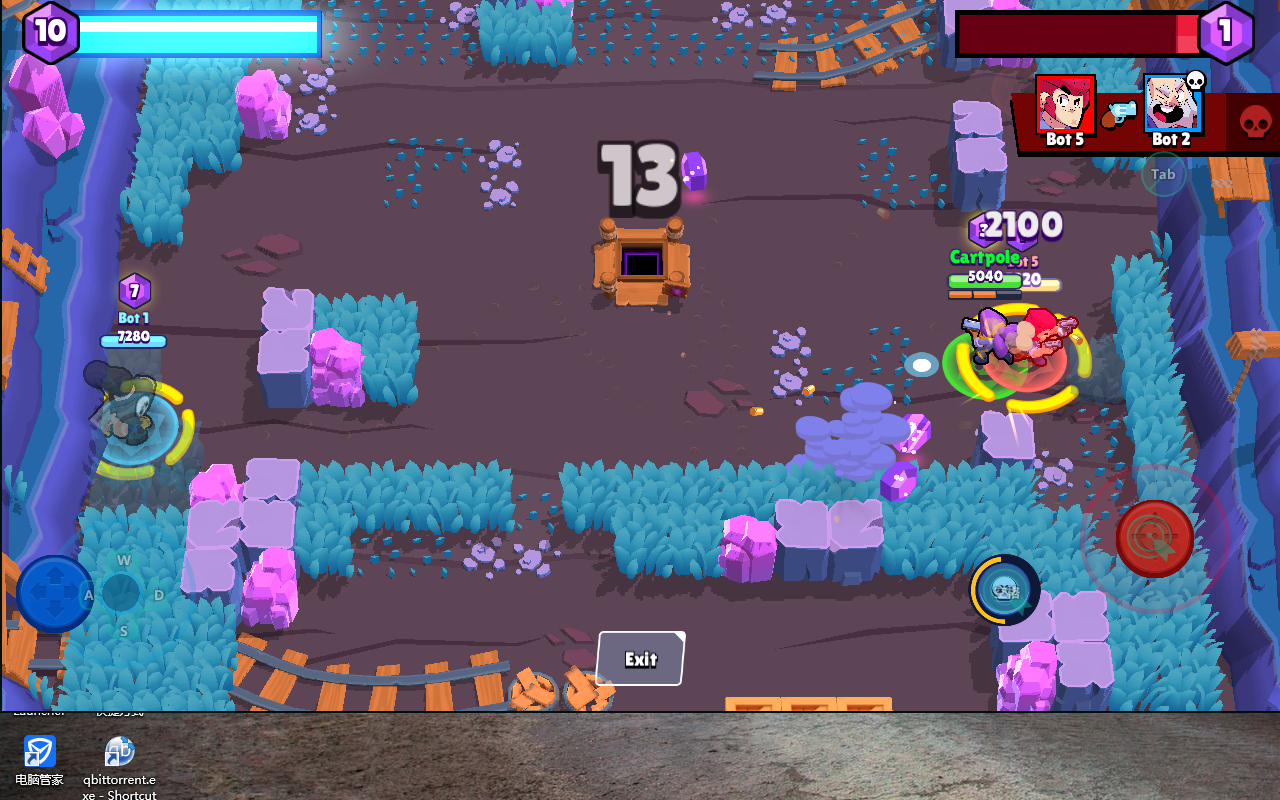current_player: (942, 334, 1031, 399)
